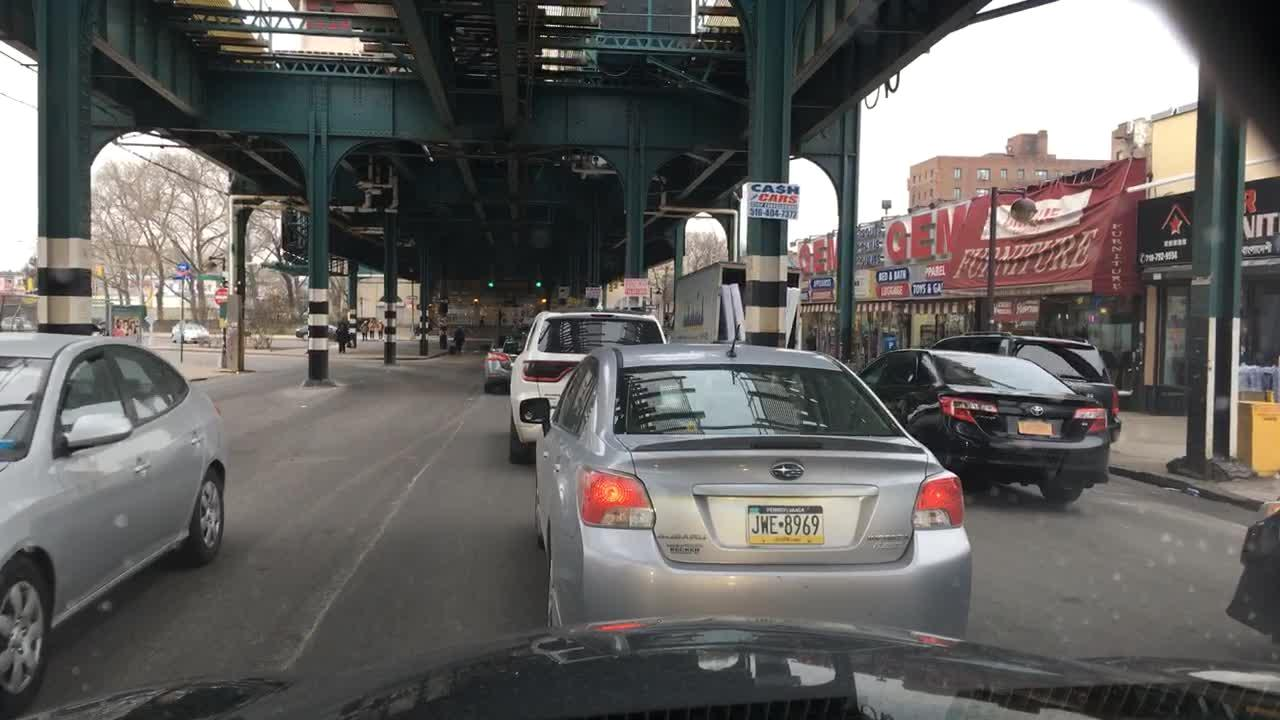Toyota: (1028, 402, 1047, 420)
subaru: (765, 453, 813, 483)
